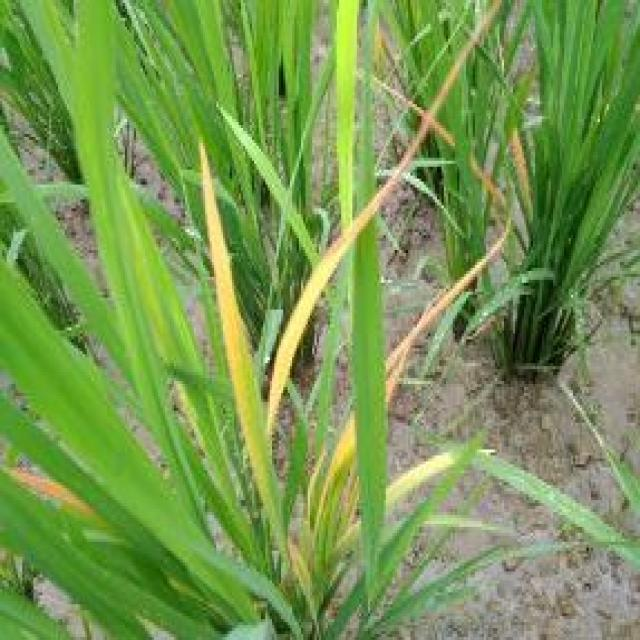Tungro: (196, 141, 278, 545), (382, 211, 514, 398), (191, 136, 272, 433)
